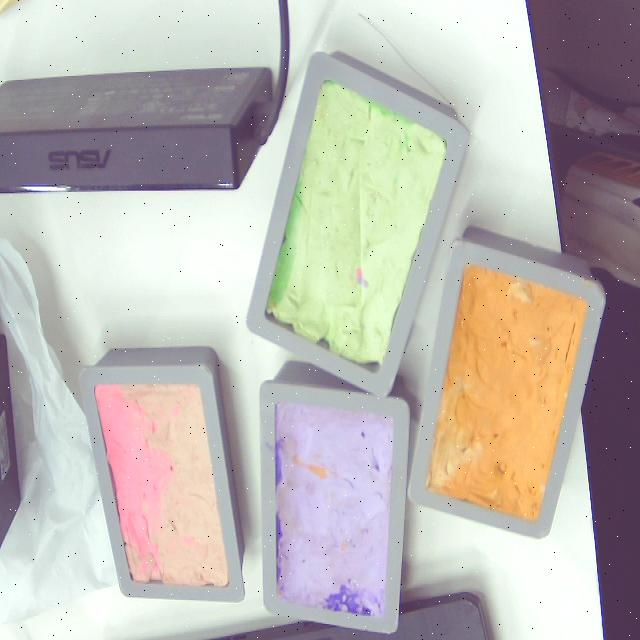block: (245, 51, 467, 398), (402, 229, 606, 545), (75, 344, 249, 604), (258, 373, 412, 634)
